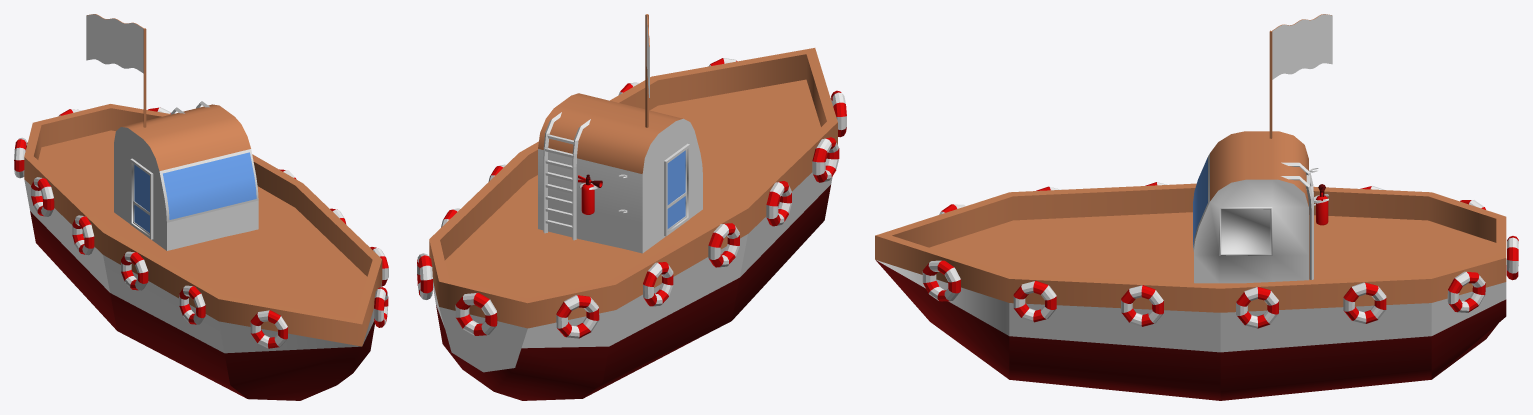
Rendered from Ship.fbx.
3 renders of one model, left to right at view 1: azimuth 30°, elevation 25°; view 2: azimuth 150°, elevation 25°; view 3: azimuth 270°, elevation 25°, orthographic. The views are drawn at different scales.
Parts seen in each view (by area): view 1: Ship; view 2: Ship; view 3: Ship.
Part boxes in pixels (x1,y1,x2,y2): Ship: (14, 14, 388, 400); Ship: (417, 14, 846, 400); Ship: (875, 14, 1518, 400).
Bounding box in the file's own units: 322 × 455 × 784.
